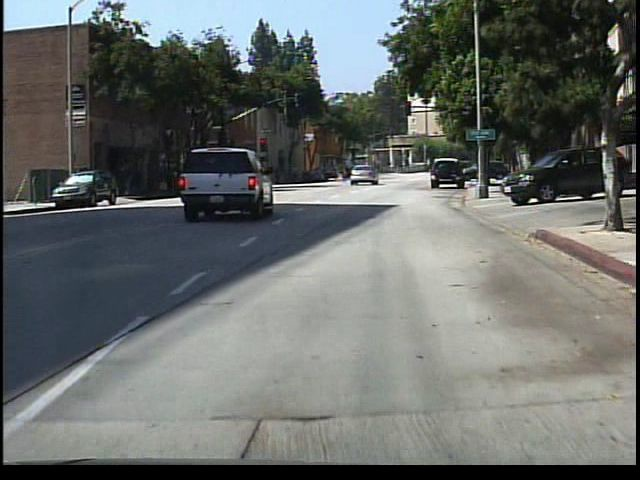person: (488, 156, 502, 181), (335, 165, 348, 185)
